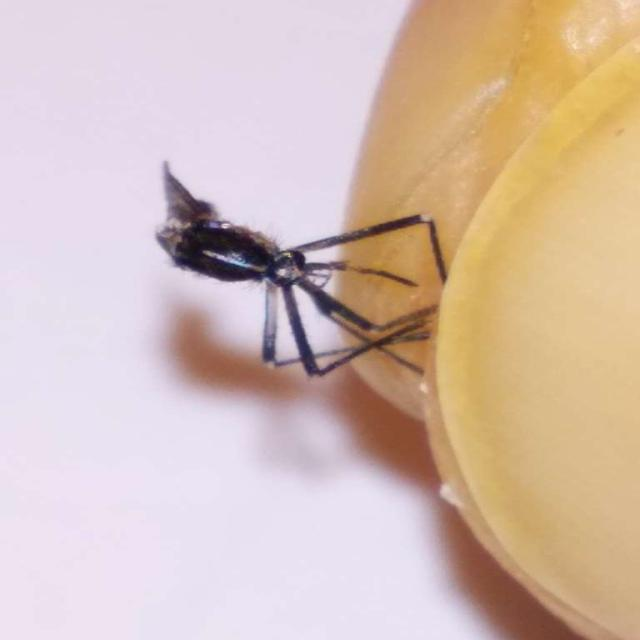albopictus: (114, 147, 479, 406)
